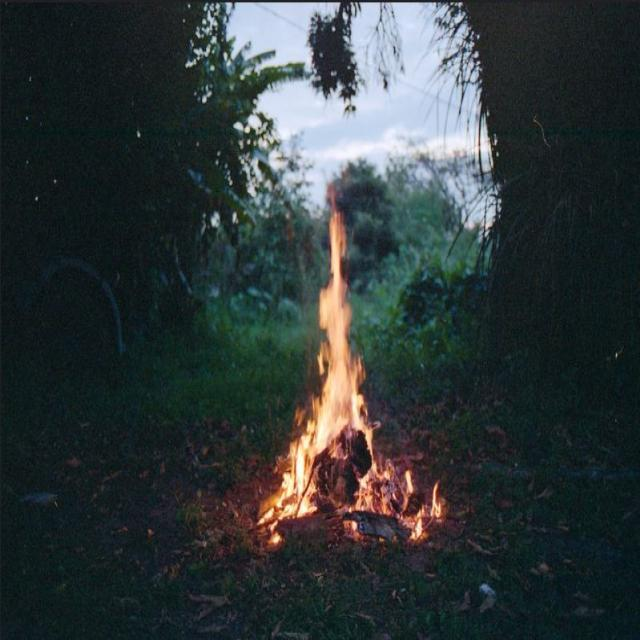Fire: (264, 184, 446, 556)
